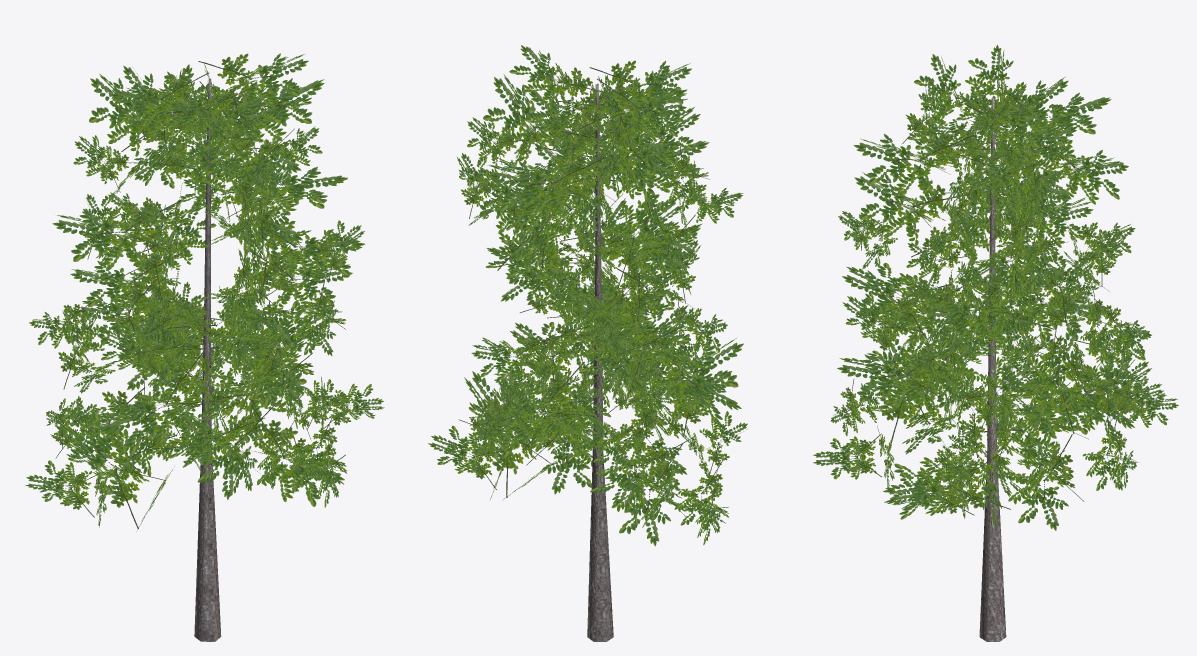
The model's file is tree1_LOD2.fbx.
The picture shows the model from 3 angles, left to right: view 1: azimuth 30°, elevation 25°; view 2: azimuth 150°, elevation 25°; view 3: azimuth 270°, elevation 25°; orthographic projection. The views are drawn at different scales.
Parts seen in each view (by area): view 1: branch04_2, bark03_0; view 2: branch04_2, bark03_0; view 3: branch04_2, bark03_0.
Part boxes in pixels (left/top/right/bottom): branch04_2: left=25, top=53, right=384, bottom=530; bark03_0: left=194, top=78, right=221, bottom=641; branch04_2: left=428, top=45, right=747, bottom=546; bark03_0: left=587, top=83, right=613, bottom=641; branch04_2: left=813, top=44, right=1178, bottom=530; bark03_0: left=979, top=97, right=1006, bottom=641.
Bounding box in the file's own units: 618 × 1093 × 636.
